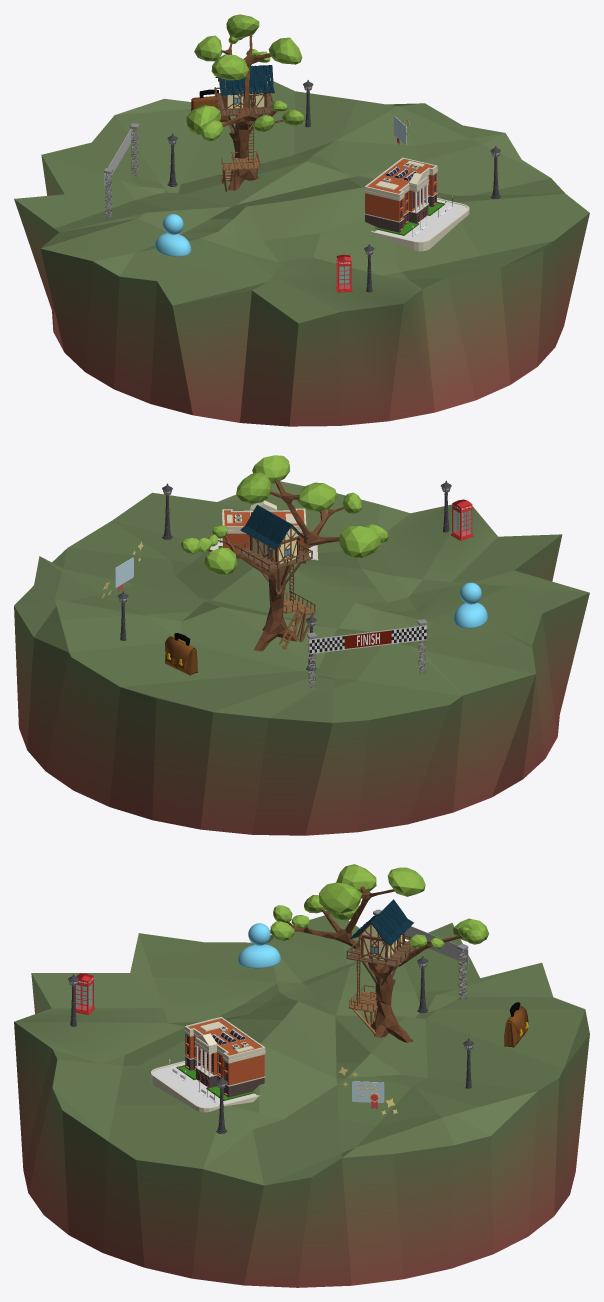
File: island.glb
The picture shows the model from 3 angles, top to bottom: view 1: azimuth 30°, elevation 25°; view 2: azimuth 150°, elevation 25°; view 3: azimuth 270°, elevation 25°; orthographic projection. The views are drawn at different scales.
Visible parts, largest first — view 1: Cylinder, Leaves, Building, Footpath, Tree, Roof, Object_2.001, Platform_2, pole.001, Platform_1; view 2: Cylinder, Leaves, Tree, Board.001, Building, Roof, Object_2.001, Platform_2, Cube.017, Platform_1, Object_3, House_Frame (+2 smaller); view 3: Cylinder, Leaves, Building, Tree, Footpath, Object_2.001, Roof, Platform_2, Platform_1, Cube.017, House_Frame, Board.001 (+2 smaller).
Boxes of the visible parts, bbox=[...] form: Cylinder: bbox=[14, 81, 589, 426]; Leaves: bbox=[186, 14, 304, 140]; Building: bbox=[364, 157, 437, 232]; Footpath: bbox=[371, 198, 469, 251]; Tree: bbox=[222, 33, 282, 190]; Roof: bbox=[215, 65, 274, 95]; Object_2.001: bbox=[155, 214, 191, 256]; Platform_2: bbox=[214, 85, 273, 136]; pole.001: bbox=[105, 128, 138, 219]; Platform_1: bbox=[221, 150, 260, 191]; Cylinder: bbox=[14, 481, 589, 835]; Leaves: bbox=[181, 455, 388, 575]; Tree: bbox=[208, 479, 343, 651]; Board.001: bbox=[309, 625, 426, 654]; Building: bbox=[222, 500, 306, 563]; Roof: bbox=[240, 505, 308, 549]; Object_2.001: bbox=[454, 582, 487, 628]; Platform_2: bbox=[234, 541, 312, 591]; Cube.017: bbox=[165, 636, 197, 675]; Platform_1: bbox=[283, 591, 315, 641]; Object_3: bbox=[451, 499, 473, 540]; House_Frame: bbox=[242, 526, 306, 564]; Cylinder: bbox=[14, 914, 589, 1287]; Leaves: bbox=[270, 864, 488, 949]; Building: bbox=[184, 1017, 265, 1097]; Tree: bbox=[286, 886, 462, 1042]; Footpath: bbox=[151, 1061, 261, 1112]; Object_2.001: bbox=[238, 923, 280, 968]; Roof: bbox=[349, 899, 413, 945]; Platform_2: bbox=[346, 935, 416, 985]; Platform_1: bbox=[348, 984, 377, 1034]; Cube.017: bbox=[504, 1005, 528, 1047]; House_Frame: bbox=[353, 923, 412, 961]; Board.001: bbox=[404, 926, 468, 964].
Bounding box in the file's own units: 2.15 × 1.17 × 2.08.
Materials: 46 (2 with a texture image).
